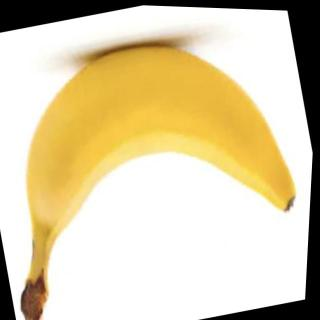banana: (0, 8, 311, 274)
